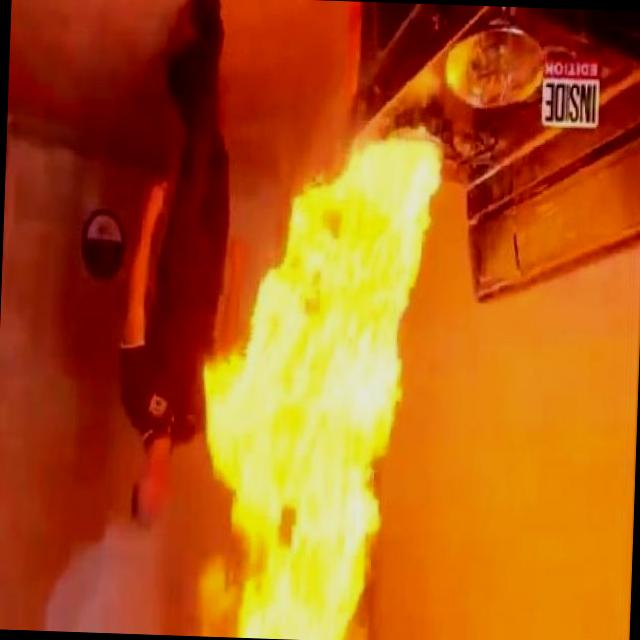fire: (163, 111, 485, 640)
